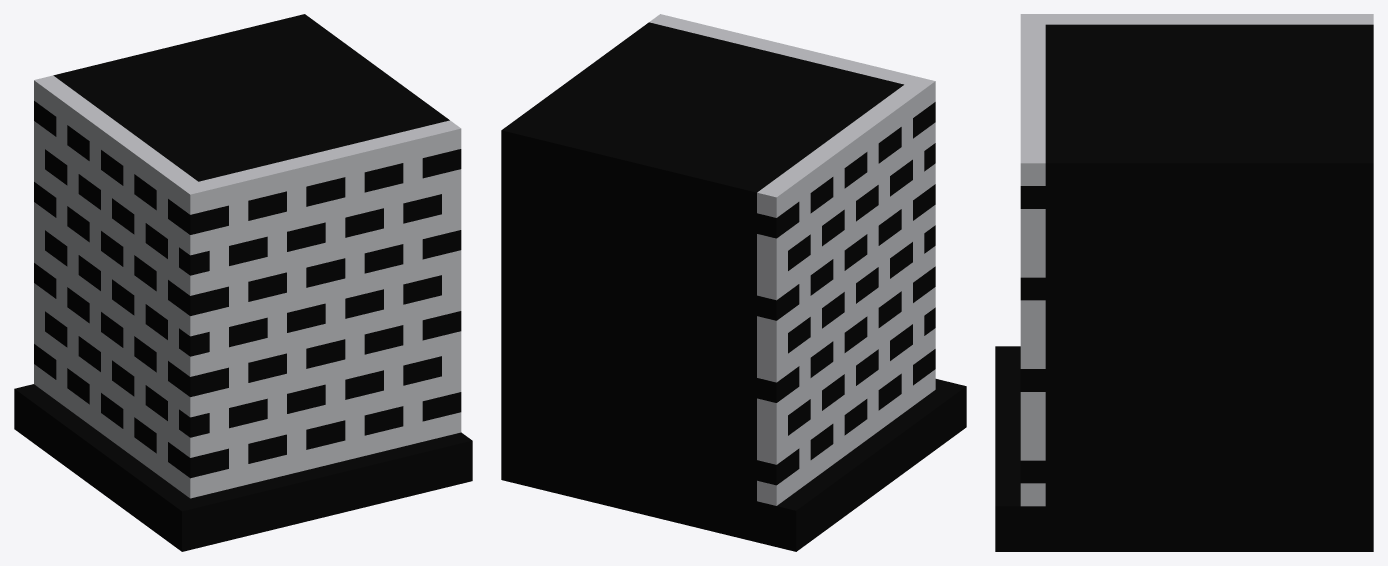
Rendered from dungeon_d_b_outer_wall_corner_b.obj.
The picture shows the model from 3 angles, left to right: view 1: azimuth 30°, elevation 25°; view 2: azimuth 150°, elevation 25°; view 3: azimuth 270°, elevation 25°; orthographic projection. The views are drawn at different scales.
Size of the model in its own units: 1.5 by 1.7 by 1.5.
Materials: 1 (1 with a texture image).
